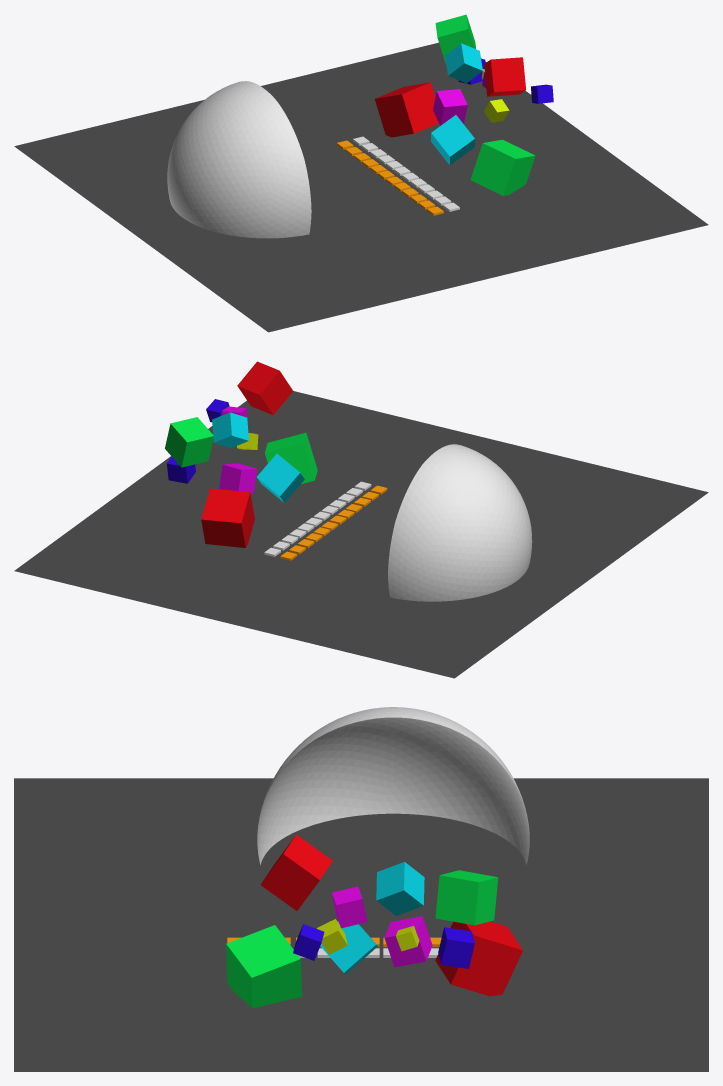
The model's file is GlossyTest.glb.
3 views of the same model, one above another, from view 1: azimuth 30°, elevation 25°; view 2: azimuth 150°, elevation 25°; view 3: azimuth 270°, elevation 25° (orthographic). The views are drawn at different scales.
Visible parts, largest first — view 1: Plane, Icosphere, Cube.016, Cube.019, Cube.035, Cube.018, Cube.033, Cube.032, Cube.017; view 2: Plane, Icosphere, Cube.016, Cube.035, Cube.032, Cube.019, Cube.018, Cube.033, Cube.017, Cube.021; view 3: Plane, Icosphere, Cube.019, Cube.016, Cube.032, Cube.035, Cube.033, Cube.017, Cube.018, Cube.021, Cube.034, Cube.030 (+1 smaller).
Part boxes in pixels (x1,y1,x2,y2): Plane: (14, 42, 708, 332); Icosphere: (167, 81, 311, 238); Cube.016: (374, 82, 438, 137); Cube.019: (470, 139, 535, 195); Cube.035: (484, 57, 526, 96); Cube.018: (431, 115, 474, 164); Cube.033: (445, 43, 482, 83); Cube.032: (435, 14, 475, 64); Cube.017: (433, 89, 467, 125); Plane: (14, 391, 708, 678); Icosphere: (388, 444, 532, 601); Cube.016: (201, 488, 254, 547); Cube.035: (237, 361, 292, 415); Cube.032: (165, 417, 213, 467); Cube.019: (265, 432, 317, 484); Cube.018: (257, 453, 304, 502); Cube.033: (212, 412, 248, 447); Cube.017: (219, 463, 257, 493); Cube.021: (166, 456, 195, 483); Plane: (14, 778, 708, 1071); Icosphere: (257, 707, 529, 865); Cube.019: (226, 925, 301, 1007); Cube.016: (435, 921, 522, 996); Cube.032: (435, 870, 498, 925); Cube.035: (260, 834, 332, 910); Cube.033: (376, 862, 424, 915); Cube.017: (384, 916, 432, 967); Cube.018: (320, 921, 377, 973); Cube.021: (438, 927, 474, 968); Cube.034: (332, 886, 367, 928); Cube.030: (293, 924, 324, 960).
Size of the model in its own units: 44.32 by 18.13 by 44.32.
